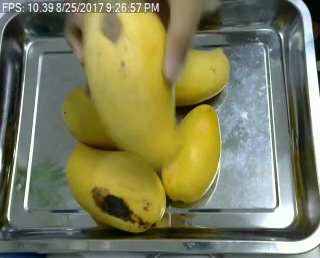Mango: (80, 1, 178, 164), (66, 142, 167, 232), (133, 37, 229, 106), (160, 103, 223, 204), (61, 84, 138, 149)
